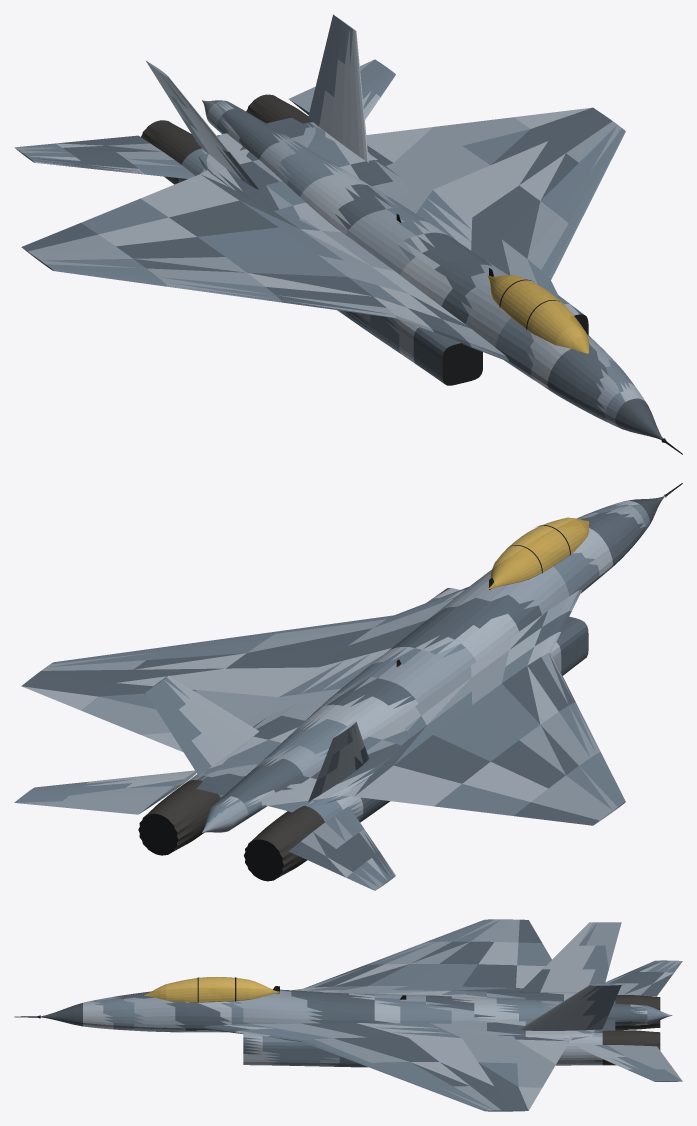
3 views of the same model, one above another, from view 1: azimuth 30°, elevation 25°; view 2: azimuth 150°, elevation 25°; view 3: azimuth 270°, elevation 25° (orthographic). The views are drawn at different scales.
Parts seen in each view (by area): view 1: airframe, canopy; view 2: airframe, canopy; view 3: airframe, canopy.
Boxes of the visible parts, x1=… form: airframe: x1=14, y1=14, x2=682, y2=454; canopy: x1=487, y1=275, x2=588, y2=353; airframe: x1=14, y1=483, x2=682, y2=890; canopy: x1=487, y1=517, x2=589, y2=589; airframe: x1=14, y1=919, x2=682, y2=1111; canopy: x1=144, y1=977, x2=281, y2=1002.
Size of the model in its own units: 14.1 by 3.22 by 20.86.
